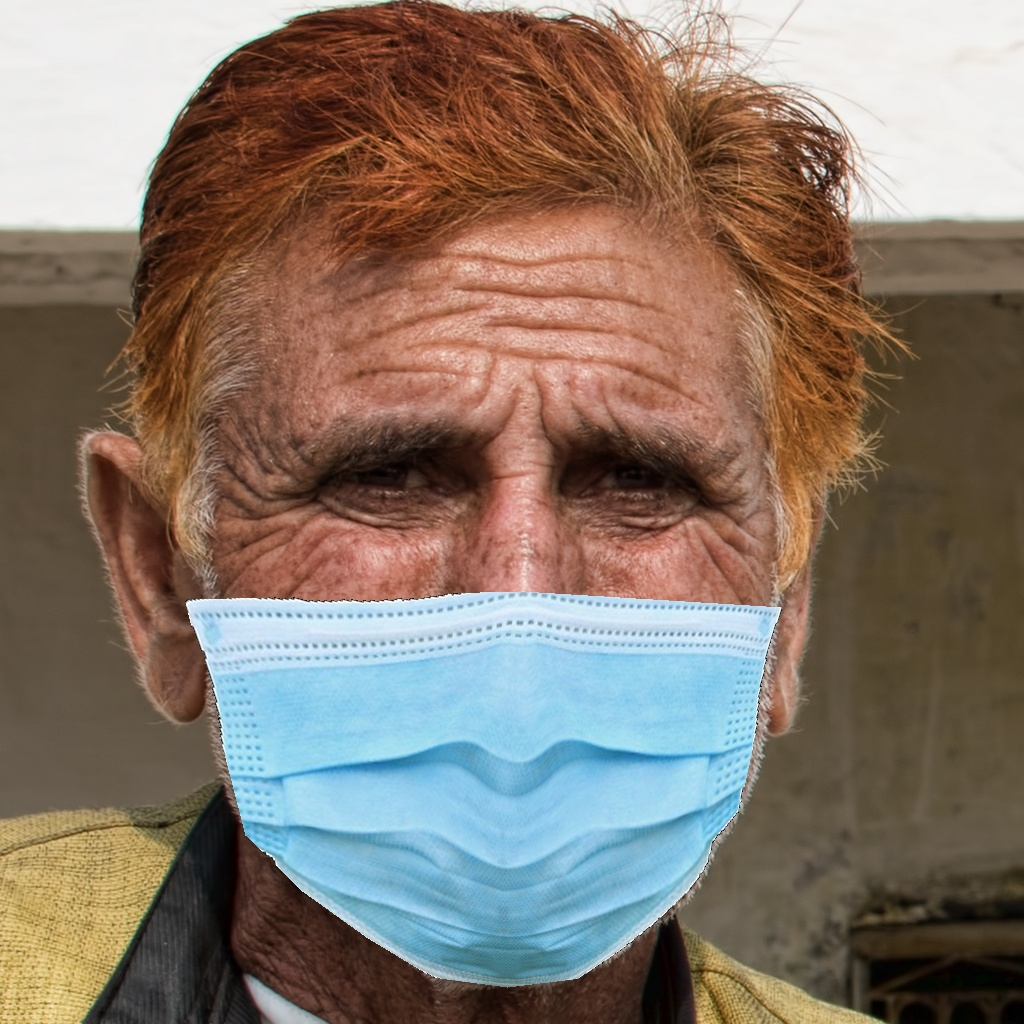Mask: (188, 343, 784, 992)
